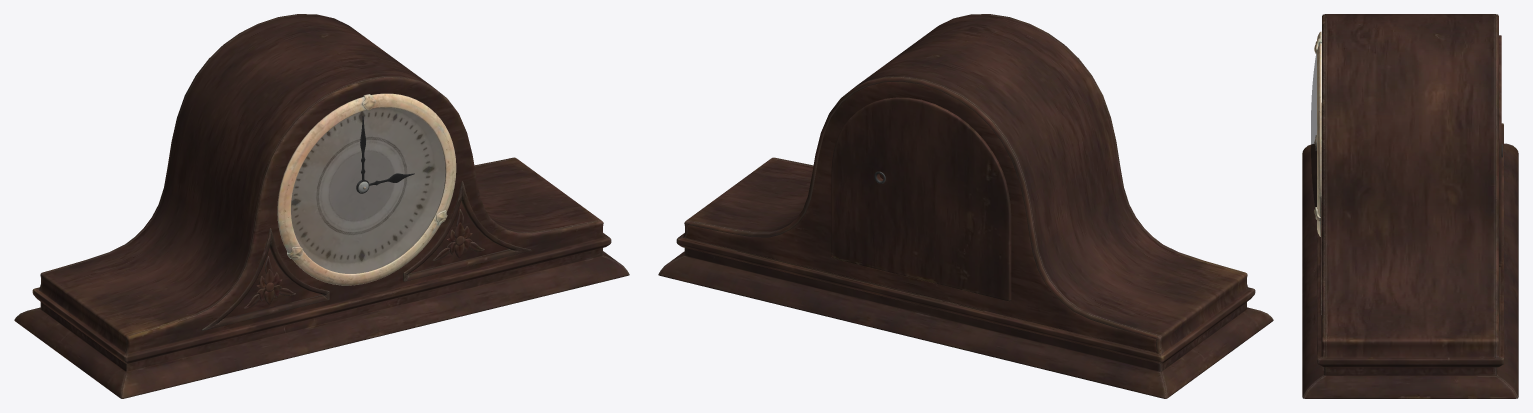
Rendered from mantel_clock_01.glb.
3 renders of one model, left to right at view 1: azimuth 30°, elevation 25°; view 2: azimuth 150°, elevation 25°; view 3: azimuth 270°, elevation 25°, orthographic.
Visible parts, largest first — view 1: mantel_clock_01, mantel_clock_01_glass; view 2: mantel_clock_01; view 3: mantel_clock_01, mantel_clock_01_glass.
Boxes of the visible parts, x1,y1,x2,y2 form: mantel_clock_01: (14, 14, 629, 398); mantel_clock_01_glass: (291, 107, 445, 273); mantel_clock_01: (658, 14, 1273, 398); mantel_clock_01: (1302, 14, 1518, 398); mantel_clock_01_glass: (1311, 53, 1316, 207).
Bounding box in the file's own units: 0.3423 × 0.1605 × 0.1262.
2 materials, 2 textured.
